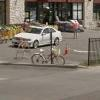cars: (12, 25, 62, 49)
